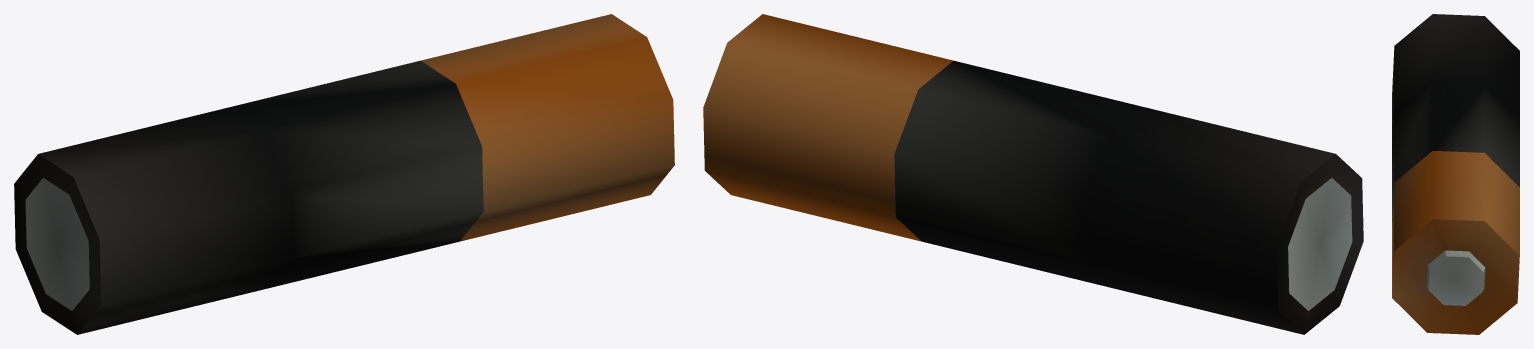
The model's file is tape_deck_battery_1.FBX.
The picture shows the model from 3 angles, left to right: view 1: azimuth 30°, elevation 25°; view 2: azimuth 150°, elevation 25°; view 3: azimuth 270°, elevation 25°; orthographic projection. The views are drawn at different scales.
Visible parts, largest first — view 1: battery_1; view 2: battery_1; view 3: battery_1.
Boxes of the visible parts, x1,y1,x2,y2 form: battery_1: (14,14,674,334); battery_1: (703,14,1363,334); battery_1: (1392,14,1519,334).
Size of the model in its own units: 0.051 by 0.0132 by 0.0132.
